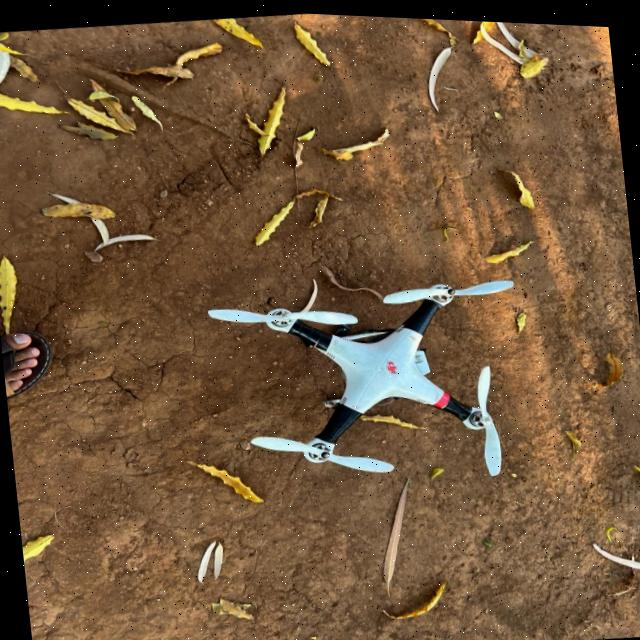drone: (188, 245, 546, 514)
